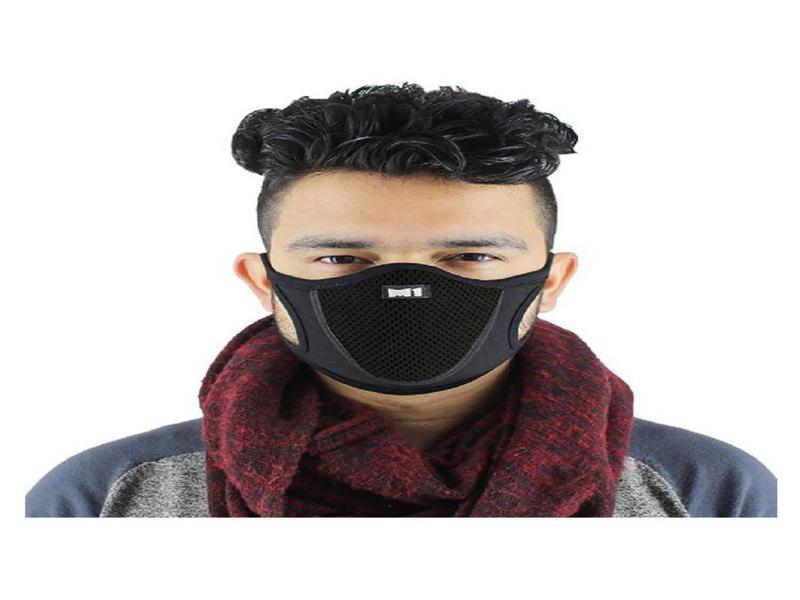with_mask: (268, 180, 549, 411)
